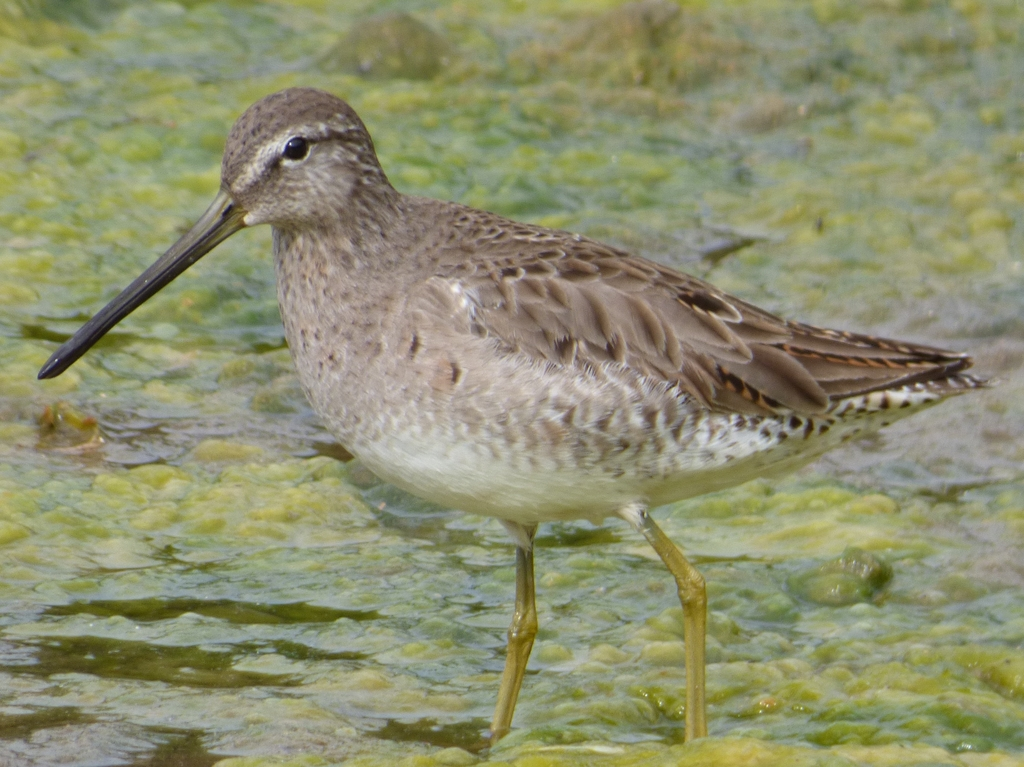Bird: (37, 86, 1000, 745)
